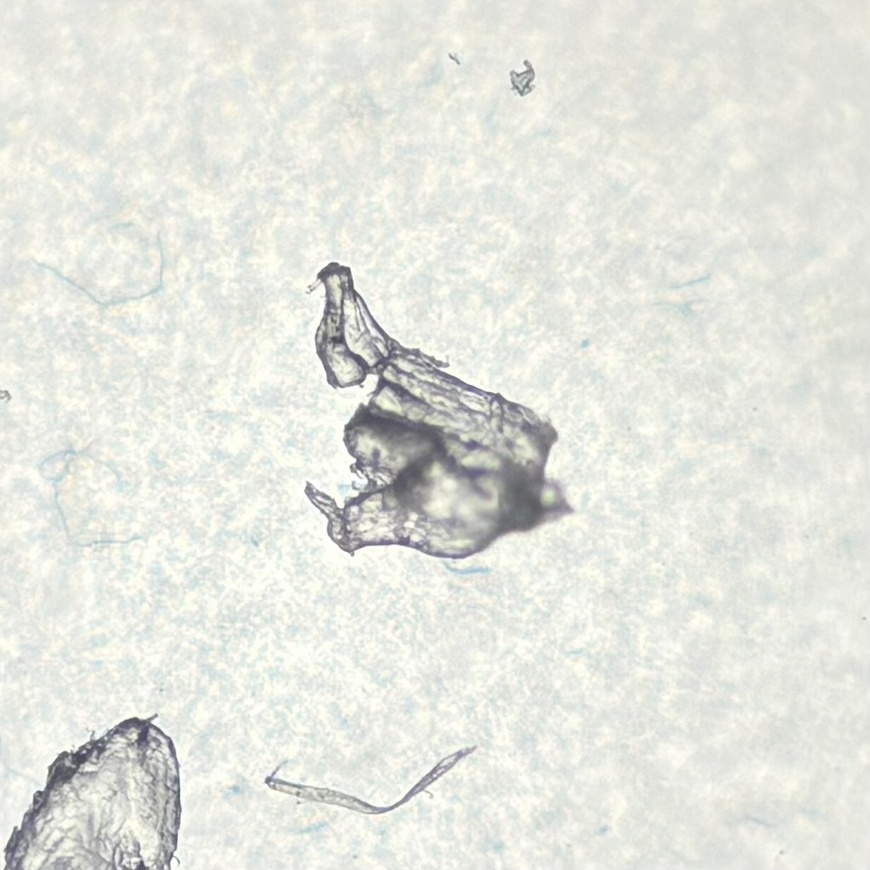microplastic: (306, 261, 576, 555), (6, 714, 181, 870), (266, 745, 477, 812), (510, 62, 537, 95)
